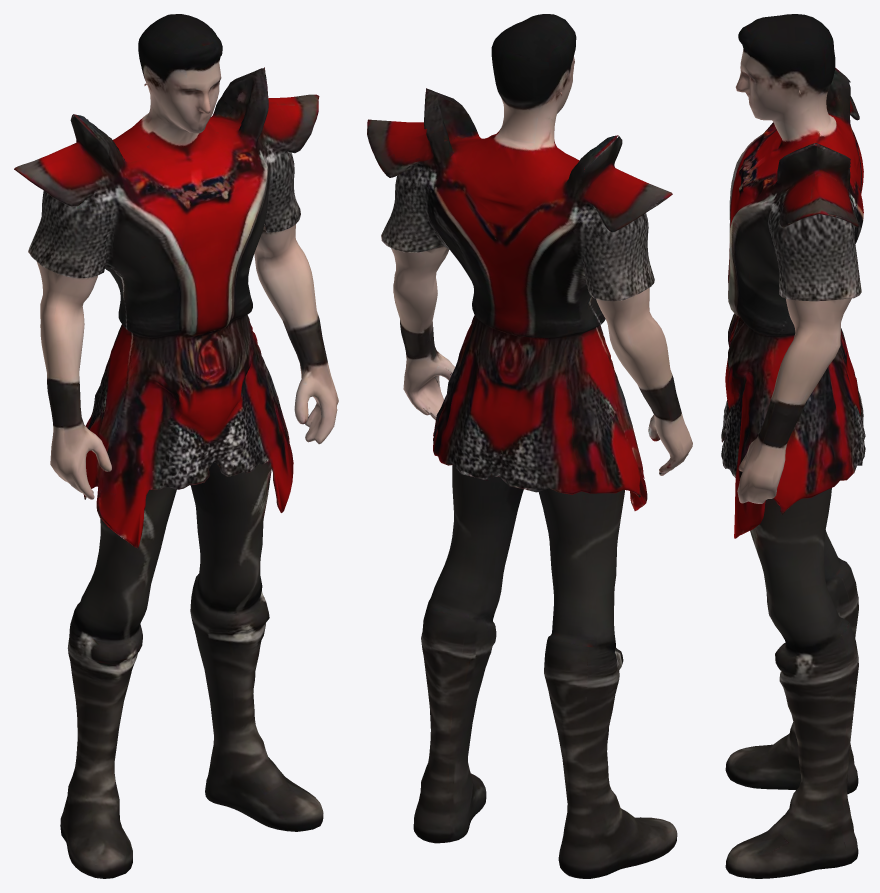
The model's file is ignis-esquelio-male-archer.glb.
The picture shows the model from 3 angles, left to right: view 1: azimuth 30°, elevation 25°; view 2: azimuth 150°, elevation 25°; view 3: azimuth 270°, elevation 25°; orthographic projection.
Parts seen in each view (by area): view 1: model; view 2: model; view 3: model.
Boxes of the visible parts, x1,y1,x2,y2 form: model: (14,14,338,878); model: (367,14,692,878); model: (721,14,865,878).
Size of the model in its own units: 0.7441 by 1.9 by 0.3079.
1 material, 1 textured.
